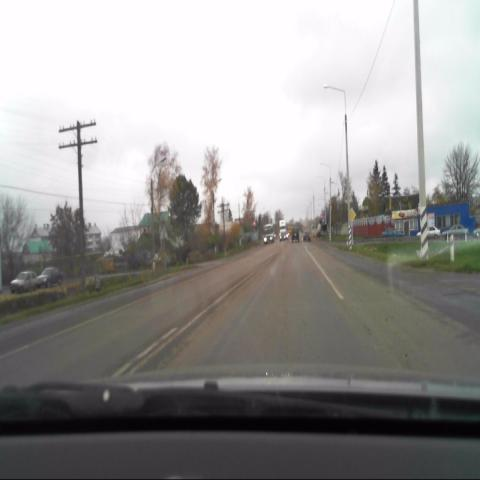2_1: (347, 208, 356, 224)
